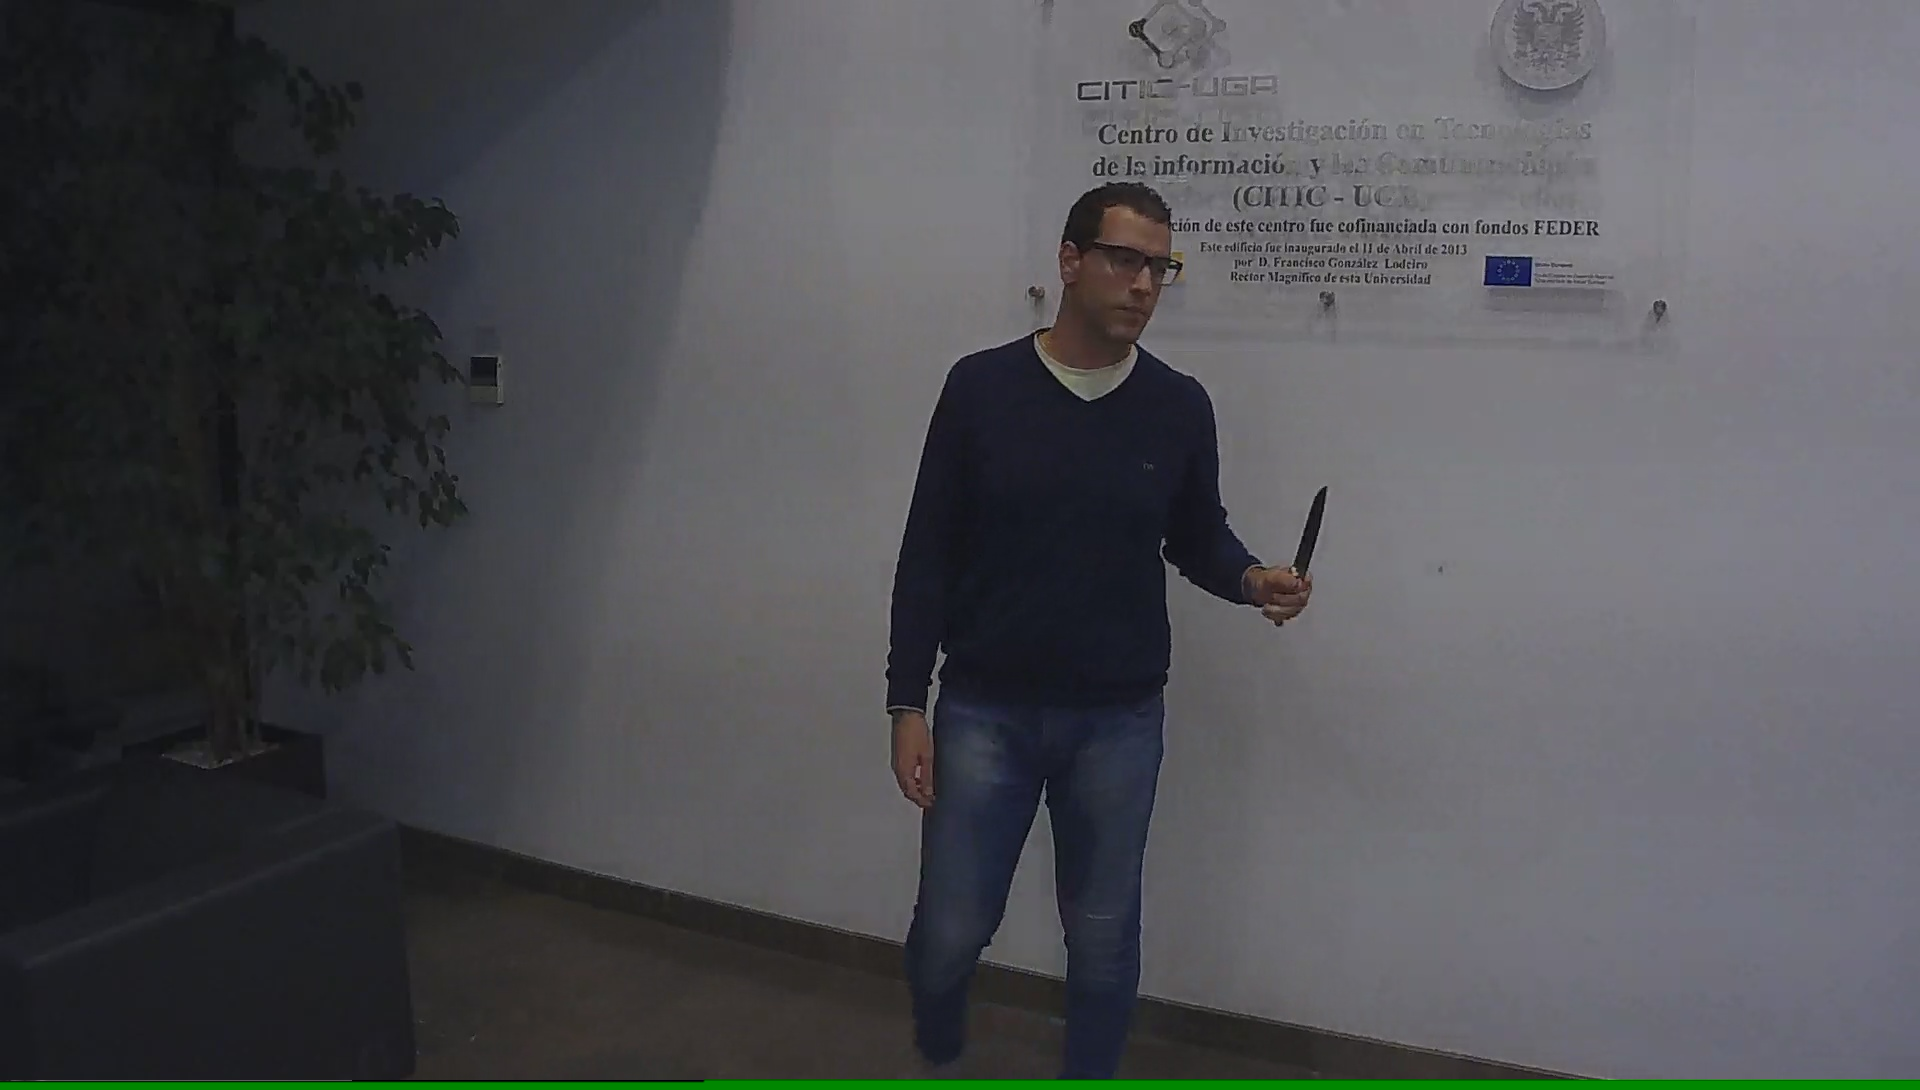knife: (1261, 473, 1337, 633)
